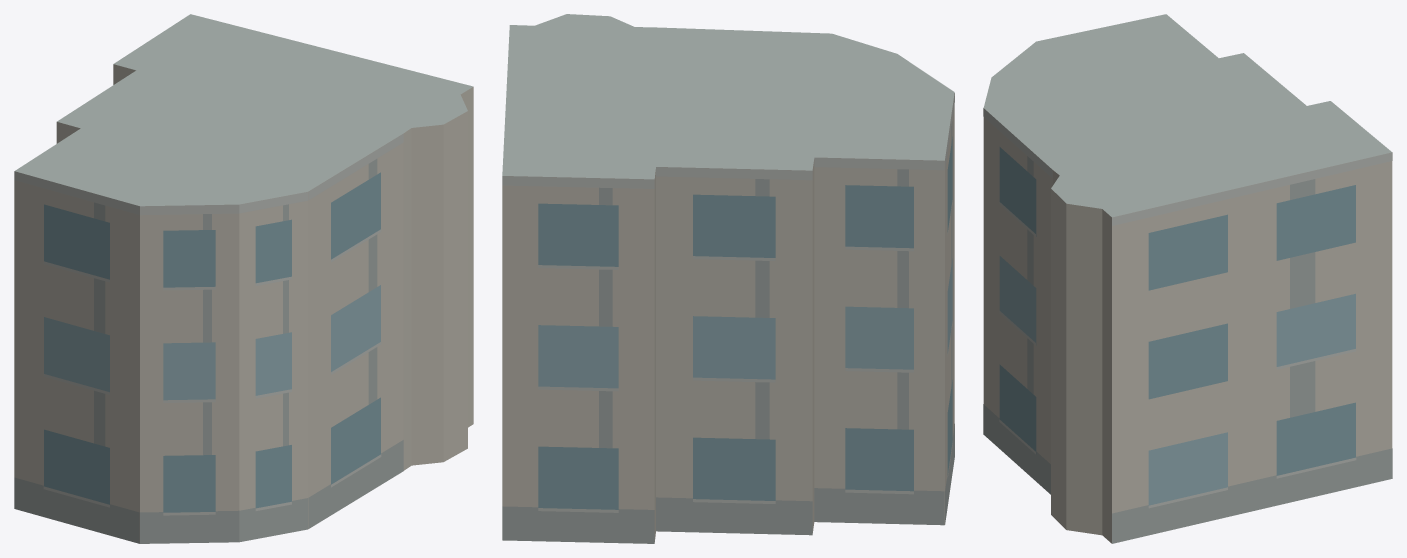
File: residential-a774ef83-28a7-4254-85c7-0cadb3c229b0.glb
The picture shows the model from 3 angles, left to right: view 1: azimuth 30°, elevation 25°; view 2: azimuth 150°, elevation 25°; view 3: azimuth 270°, elevation 25°; orthographic projection. The views are drawn at different scales.
Parts seen in each view (by area): view 1: residential-a774ef83-28a7-4254-85c7-0cadb3c229b0.tmp; view 2: residential-a774ef83-28a7-4254-85c7-0cadb3c229b0.tmp; view 3: residential-a774ef83-28a7-4254-85c7-0cadb3c229b0.tmp.
Boxes of the visible parts, box(x1,y1,x2,y2) form: residential-a774ef83-28a7-4254-85c7-0cadb3c229b0.tmp: box(14, 14, 473, 543); residential-a774ef83-28a7-4254-85c7-0cadb3c229b0.tmp: box(502, 14, 954, 543); residential-a774ef83-28a7-4254-85c7-0cadb3c229b0.tmp: box(983, 14, 1392, 543).
Bounding box in the file's own units: 12.24 × 9.15 × 10.4.
